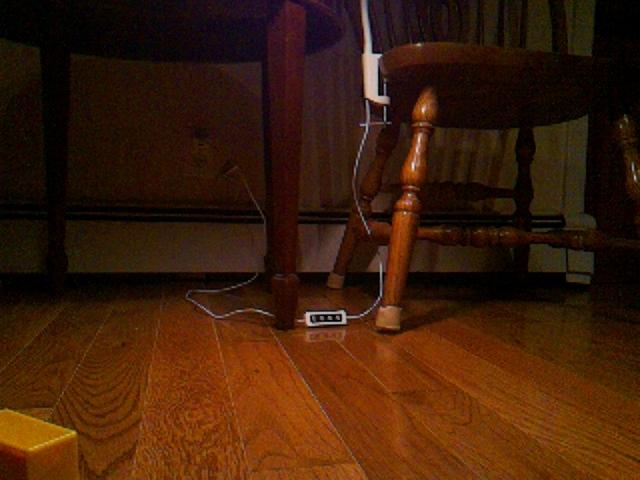yellow: (1, 406, 81, 480)
